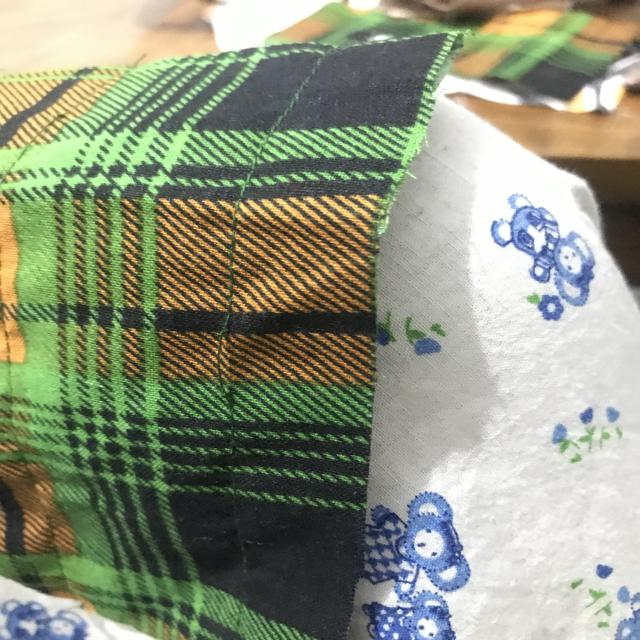skip: (203, 306, 247, 409)
